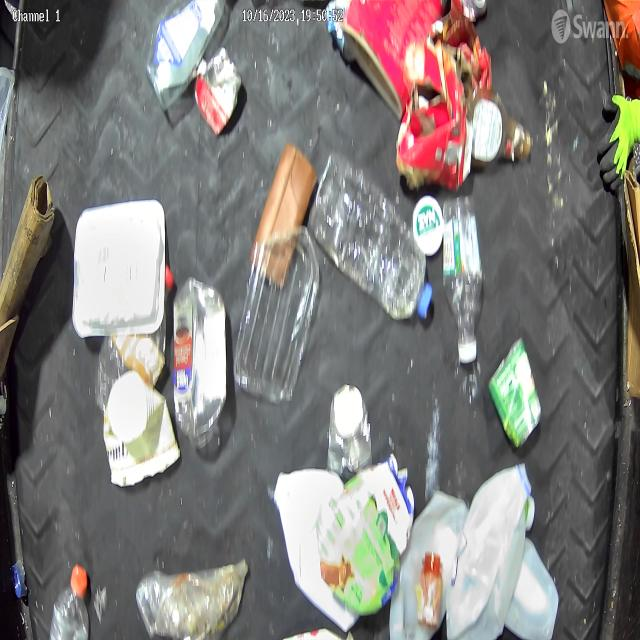can: (489, 335, 547, 447), (322, 378, 376, 475), (191, 49, 242, 134)
milk_jug: (448, 468, 539, 640), (269, 466, 358, 636), (386, 492, 470, 640)
non_white_jug: (315, 460, 417, 623)
plastic_bottle: (308, 150, 434, 327), (442, 192, 487, 380), (50, 562, 94, 640)
